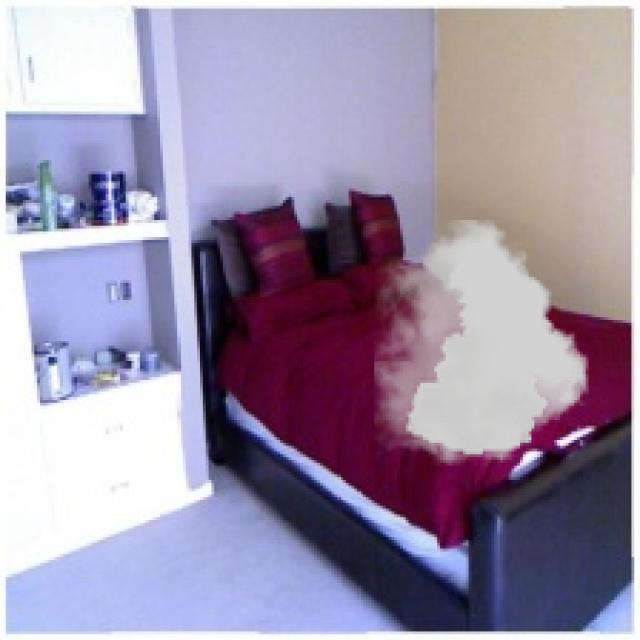Smoke: (374, 220, 589, 466)
